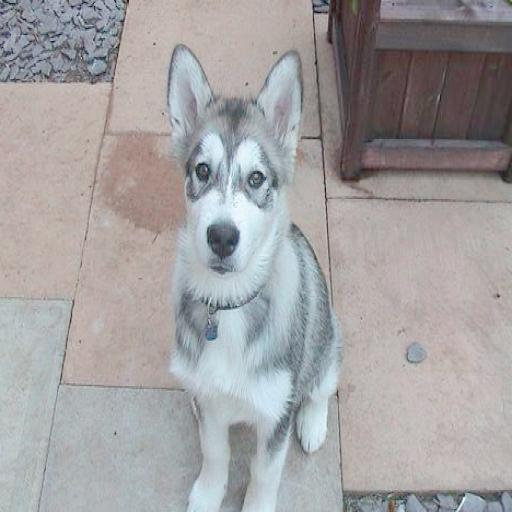dog_face: (165, 46, 312, 276)
